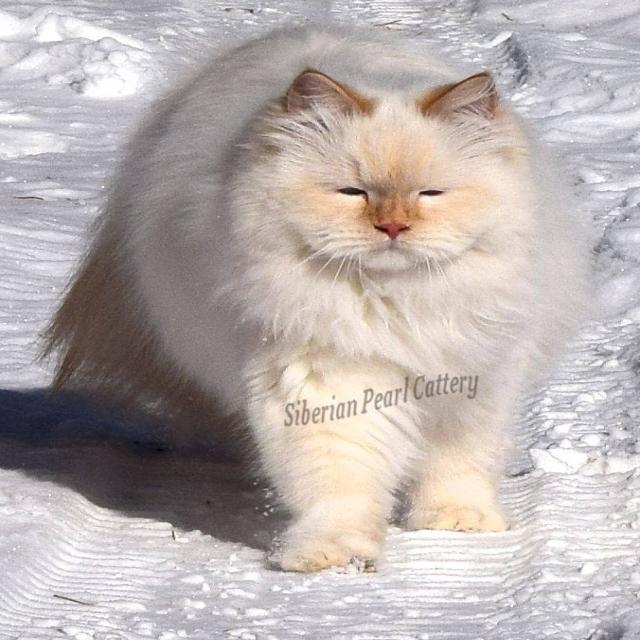Neva Masquerade: (39, 13, 596, 578)
